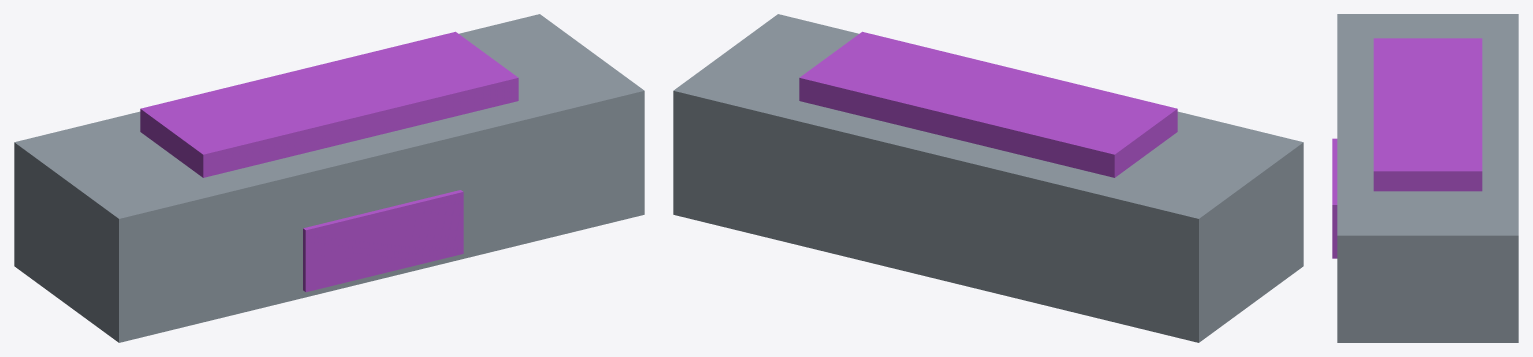
Rendered from SM_Chronolegion_CH_IsobathFrigate_Blockout.fbx.
The picture shows the model from 3 angles, left to right: view 1: azimuth 30°, elevation 25°; view 2: azimuth 150°, elevation 25°; view 3: azimuth 270°, elevation 25°; orthographic projection. The views are drawn at different scales.
Parts seen in each view (by area): view 1: MainBuilding, RoofStructure, EntranceGate; view 2: MainBuilding, RoofStructure; view 3: MainBuilding, RoofStructure, EntranceGate.
Part boxes in pixels (x1=…): MainBuilding: x1=14, y1=14, x2=644, y2=342; RoofStructure: x1=140, y1=31, x2=518, y2=177; EntranceGate: x1=303, y1=190, x2=463, y2=292; MainBuilding: x1=673, y1=14, x2=1303, y2=342; RoofStructure: x1=799, y1=31, x2=1177, y2=177; MainBuilding: x1=1337, y1=14, x2=1518, y2=342; RoofStructure: x1=1373, y1=38, x2=1482, y2=191; EntranceGate: x1=1332, y1=138, x2=1337, y2=258.
Size of the model in its own units: 1100 by 295 by 390.
